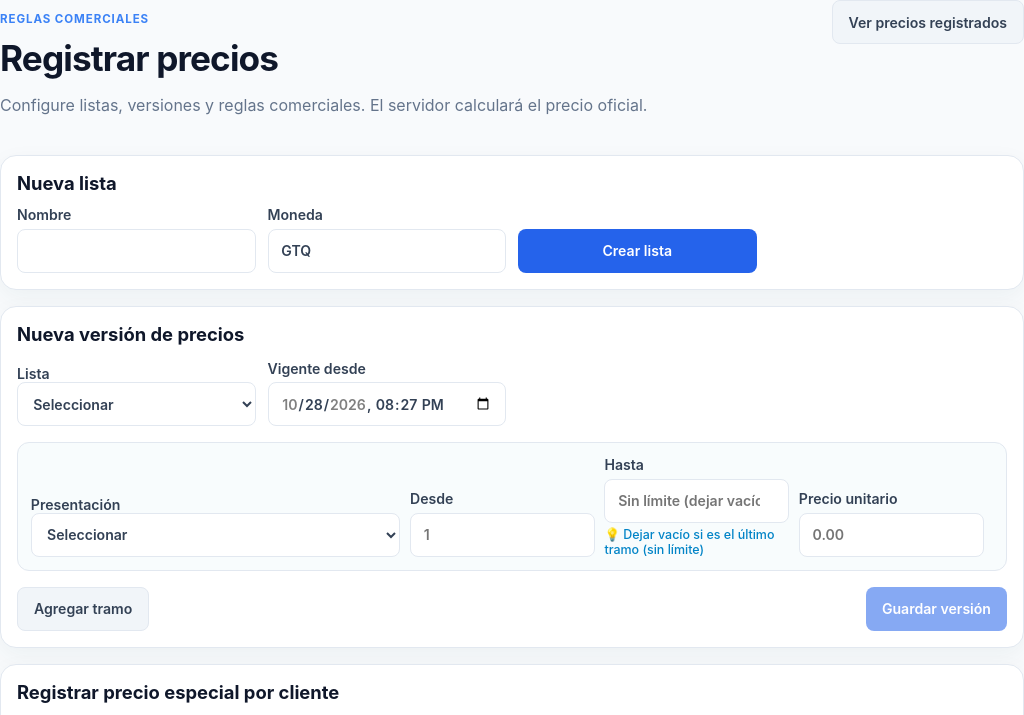
Scenario: PricingPage › muestra ventana flotante Datos grabados, limpia los campos y permite cerrar con OK
Submit the form named "Guardar versión", box x1=0 y1=306 x2=1023 y2=648
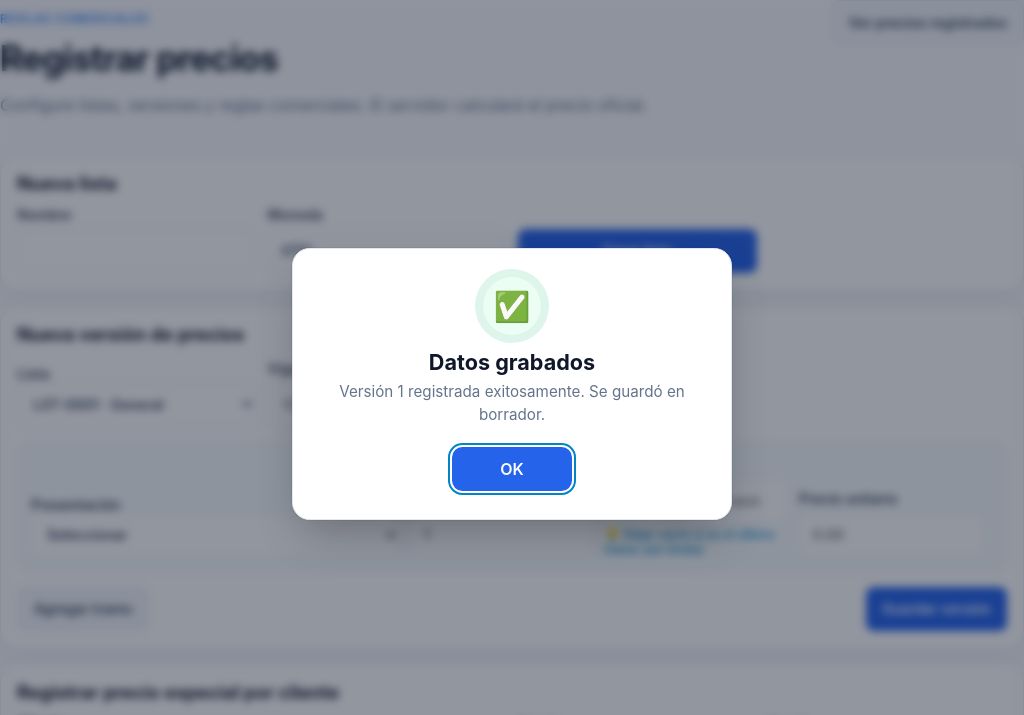
Expected: the heading "Datos grabados" is shown, x1=429 y1=349 x2=595 y2=375
Click the button "OK" at (512, 469), box x1=452 y1=447 x2=572 y2=491
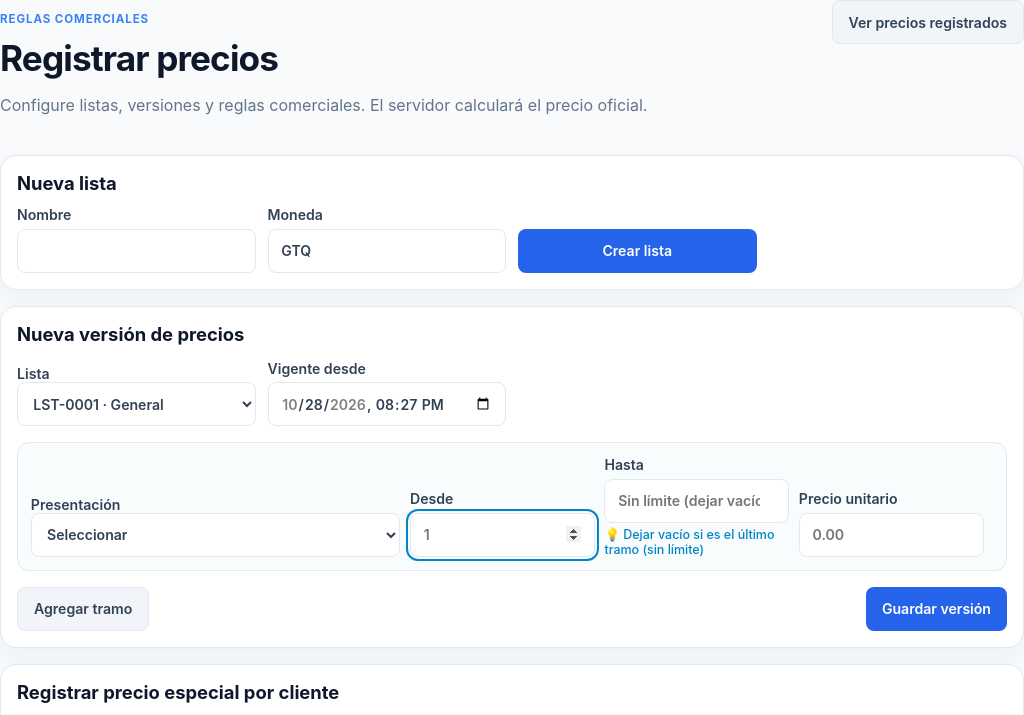
Expected: the number field with placeholder "1" is empty, x1=410 y1=513 x2=595 y2=557
Expected: the heading "Datos grabados" is gone
